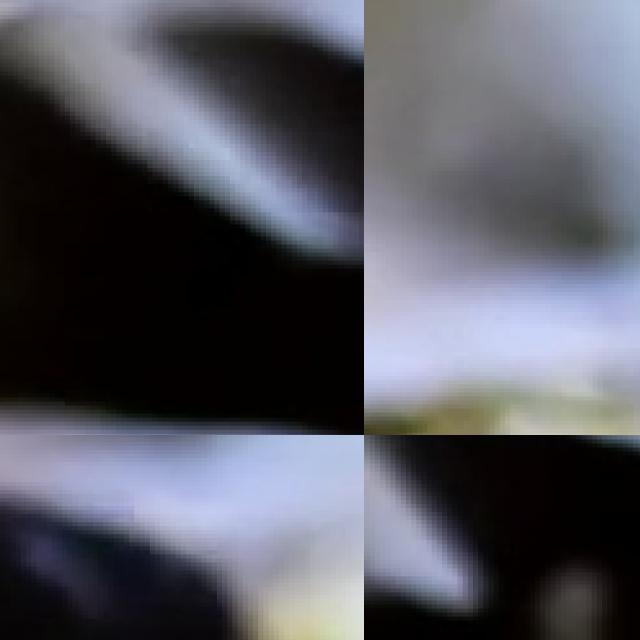fish: (0, 0, 364, 435), (364, 435, 638, 640)
